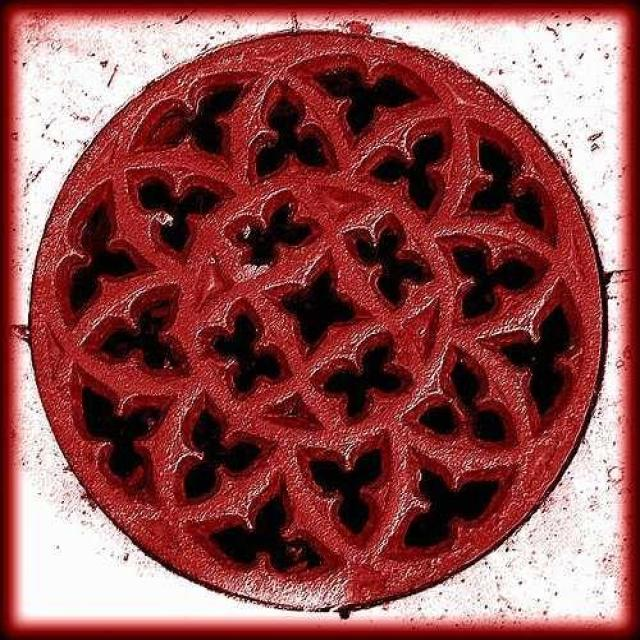manhole: (31, 34, 602, 609)
